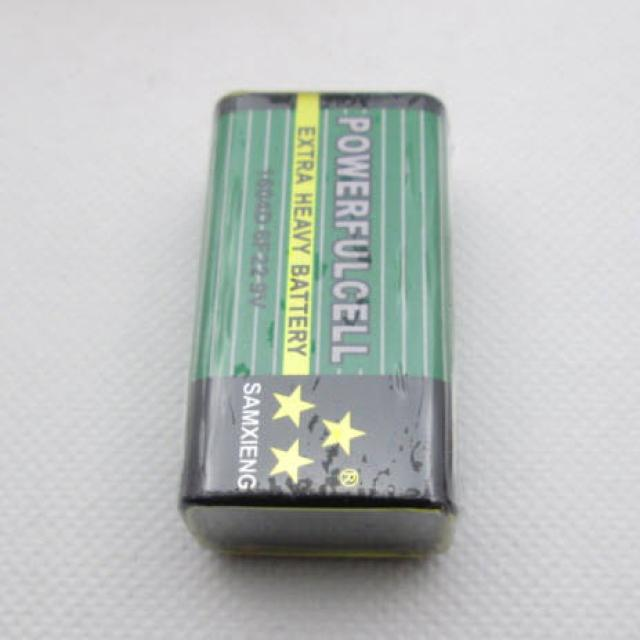battery: (151, 13, 568, 571)
